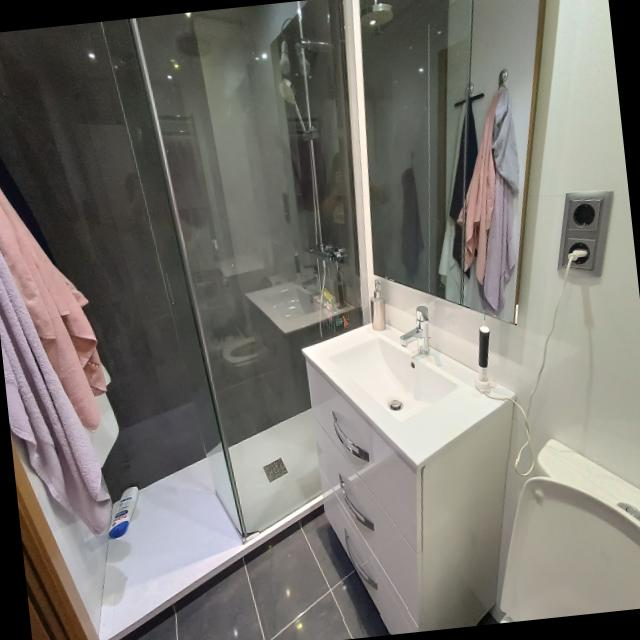cabinet: (306, 358, 512, 634)
table: (500, 439, 640, 623)
wardrobe: (302, 306, 516, 469)
